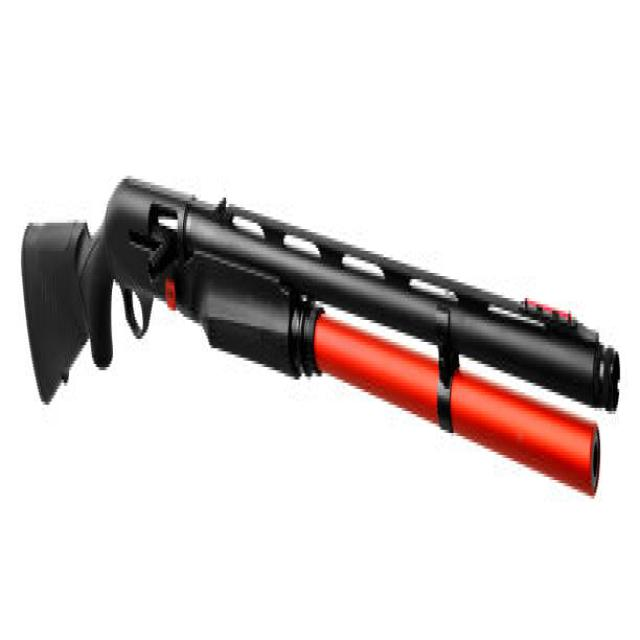rifle: (16, 164, 622, 507)
